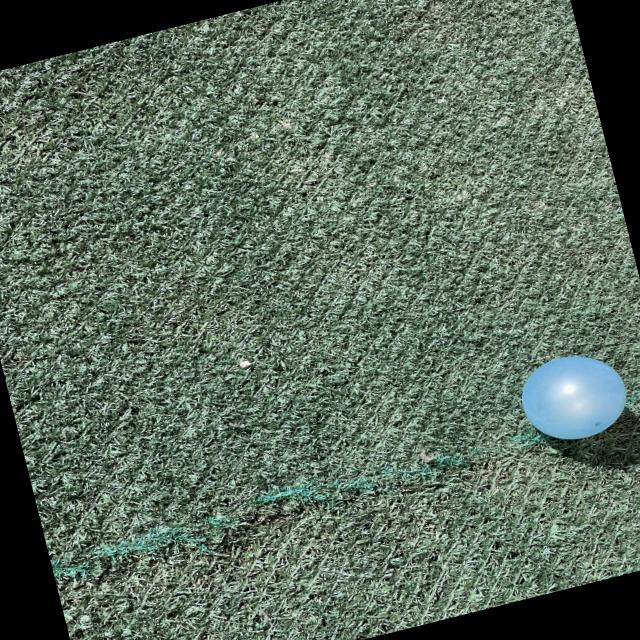balloon: (522, 356, 625, 439)
